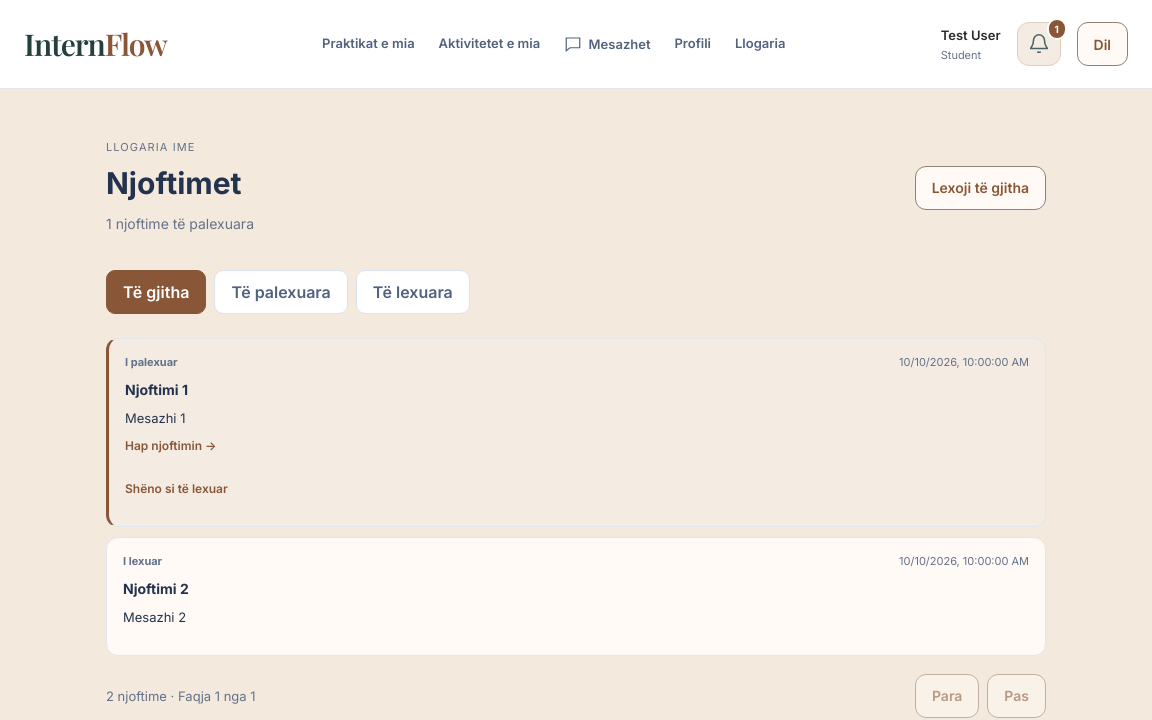
Test: keeps center and dropdown synchronized after marking one read
Click the button named "Njoftimet, 1 të palexuara" at (1038, 44), box 1016,22 -> 1060,66
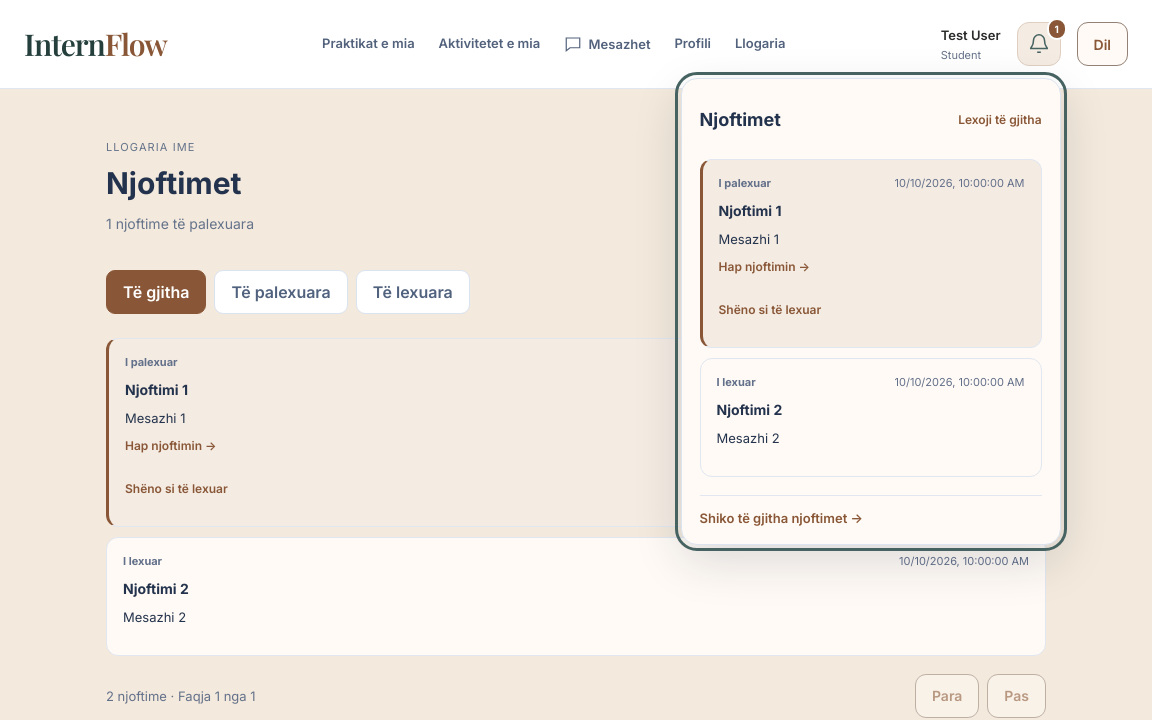
Click the button with aria-label "Shëno si të lexuar: Njoftimi 1" at (770, 310), box 718,288 -> 821,332
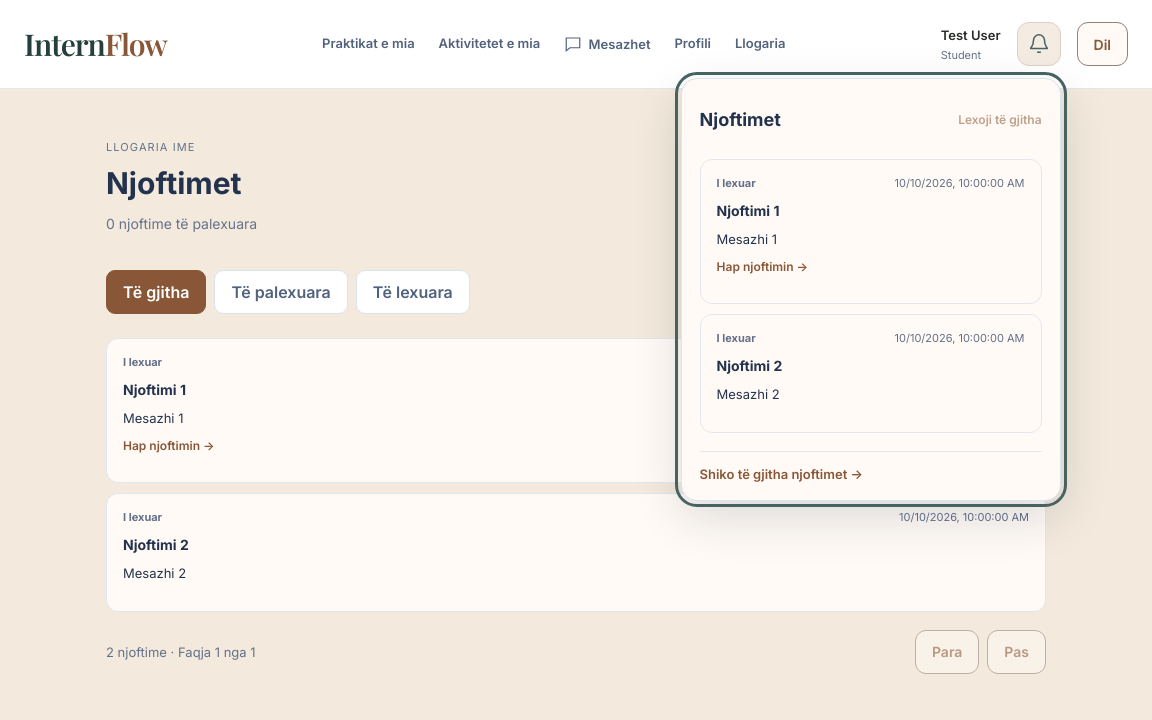
Check: the button named "Njoftimet, 0 të palexuara" is shown, box 1016,22 -> 1060,66
